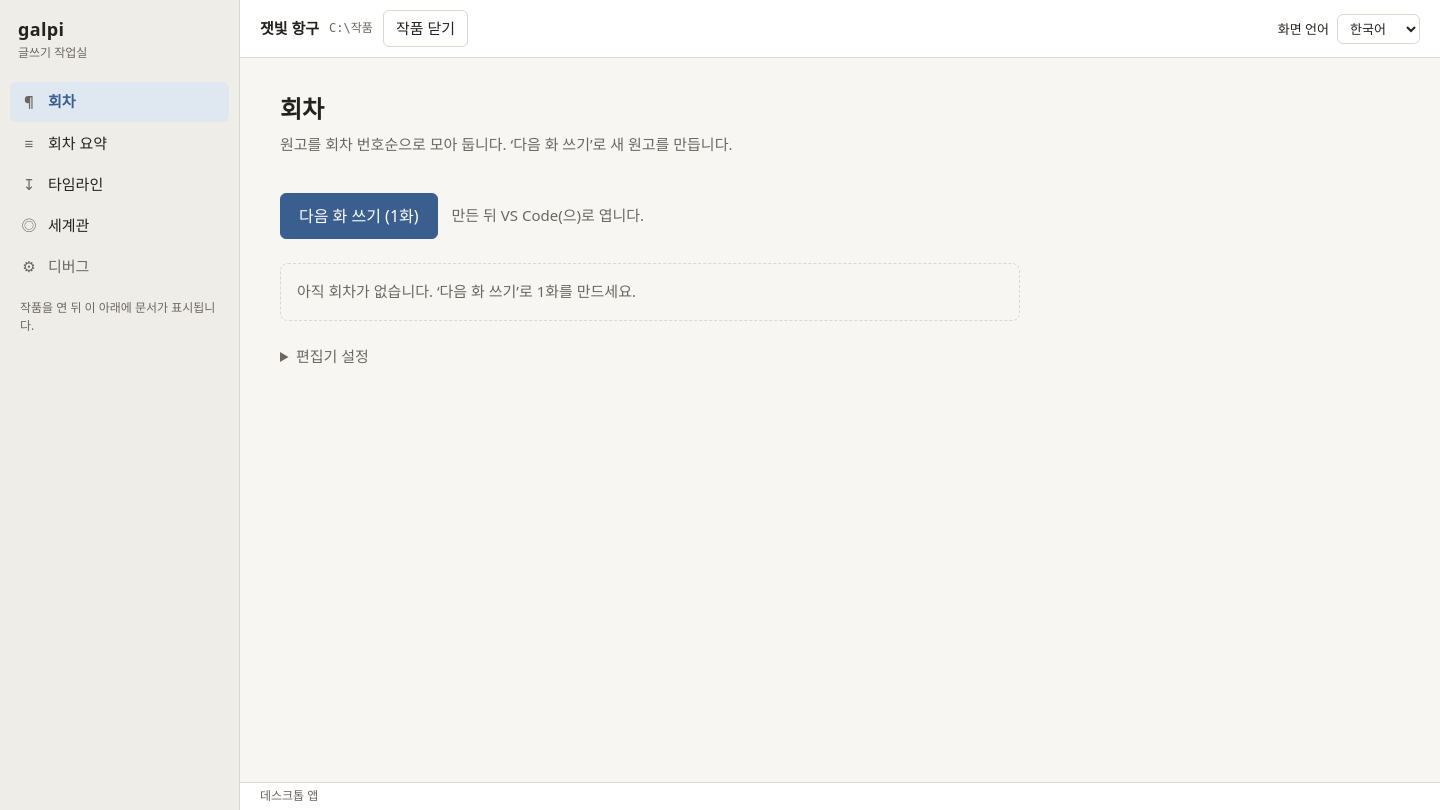
Test case: 08 world cards › world root shows the card panel in the app
Check: the text "잿빛 항구" is shown, box [260, 17, 319, 40]
Click the button "◎ 세계관": (120, 226) [10, 206, 229, 246]
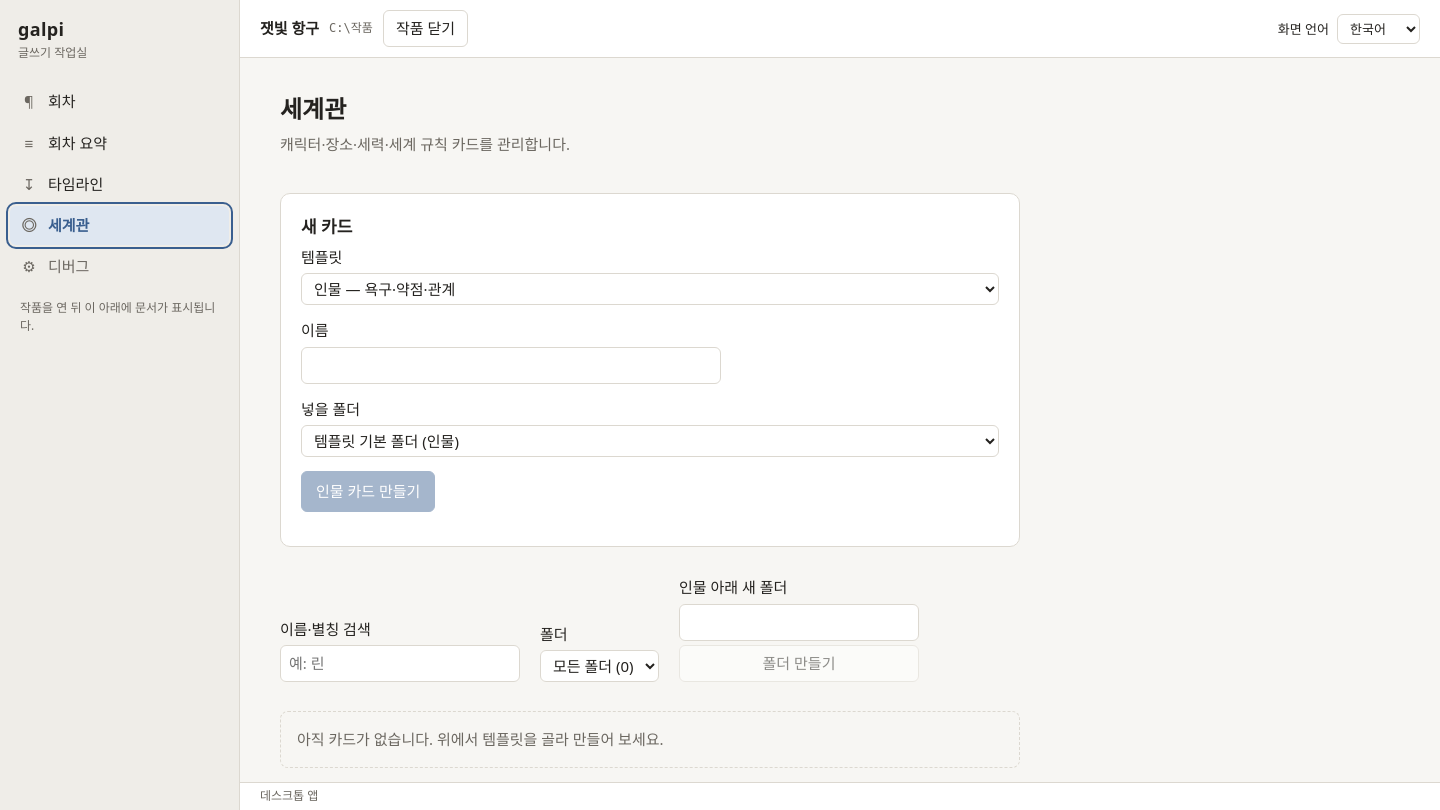
Check: the text "아직 카드가 없습니다. 위에서 템플릿을 골라 만들어 보세요." is shown, box [280, 711, 1020, 768]
